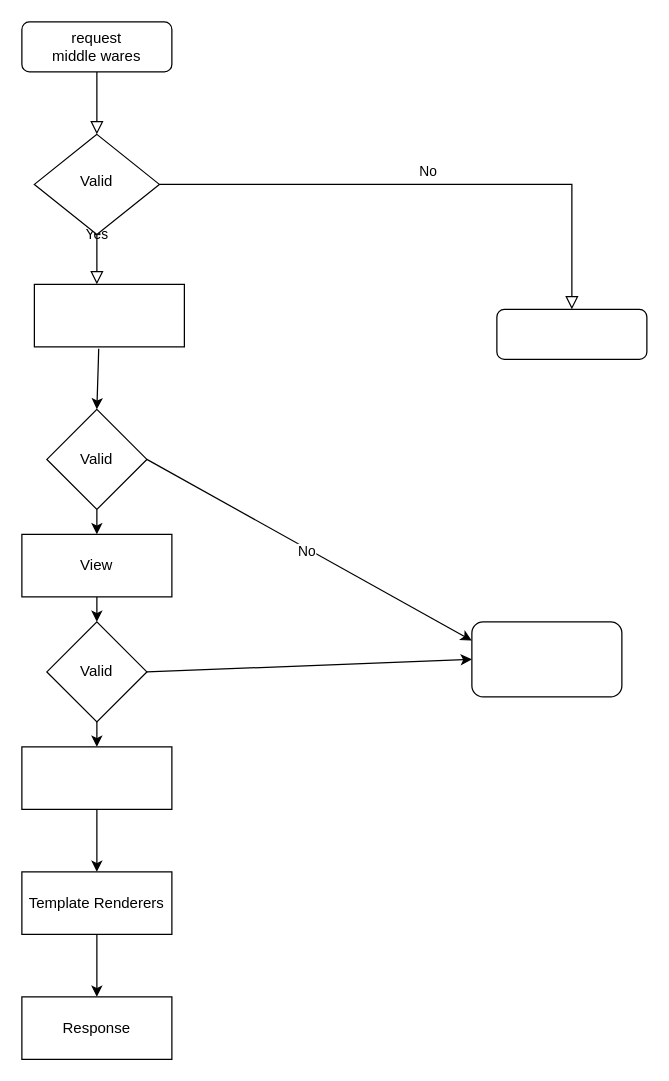
Some shapes in this 669 by 1081 pixel diagram are drawn without their labels. The centre of each missing label's shape, as x and y in pixels:
"Context preprocessors" goes at point (96, 777).
"Raise Exception and return" goes at point (546, 659).
"short-circuit and return" goes at point (571, 333).
"URL Dispatcher" goes at point (108, 315).
